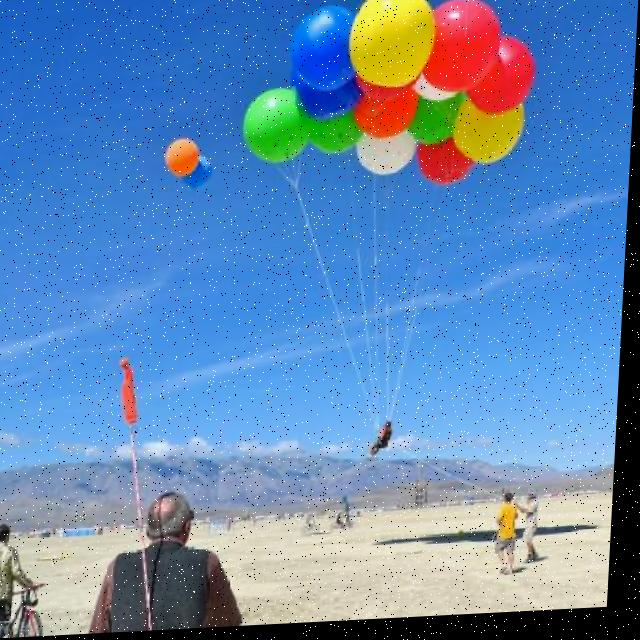balloon: (338, 0, 454, 107), (278, 0, 370, 100), (423, 0, 506, 107), (236, 85, 327, 175), (464, 34, 542, 128), (454, 93, 534, 176), (347, 71, 428, 137), (347, 119, 427, 184), (415, 133, 481, 195), (290, 77, 364, 128), (405, 92, 467, 152), (304, 103, 369, 158), (161, 130, 206, 184), (177, 153, 222, 193)
